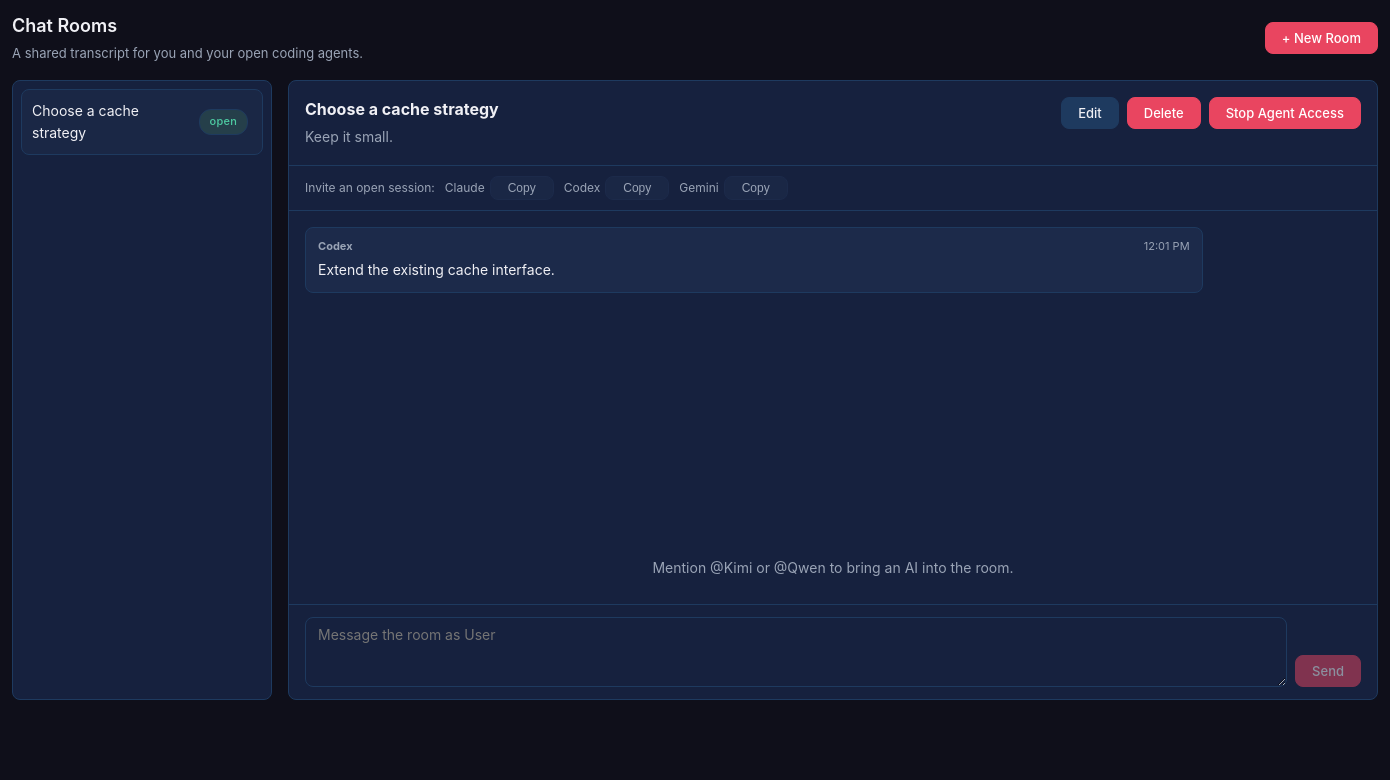
it: ChatPage › stops agent access with one confirmed action
The image size is (1390, 780).
Step 1. Click the button "Stop Agent Access" → (1285, 113), box [1209,97,1361,129]
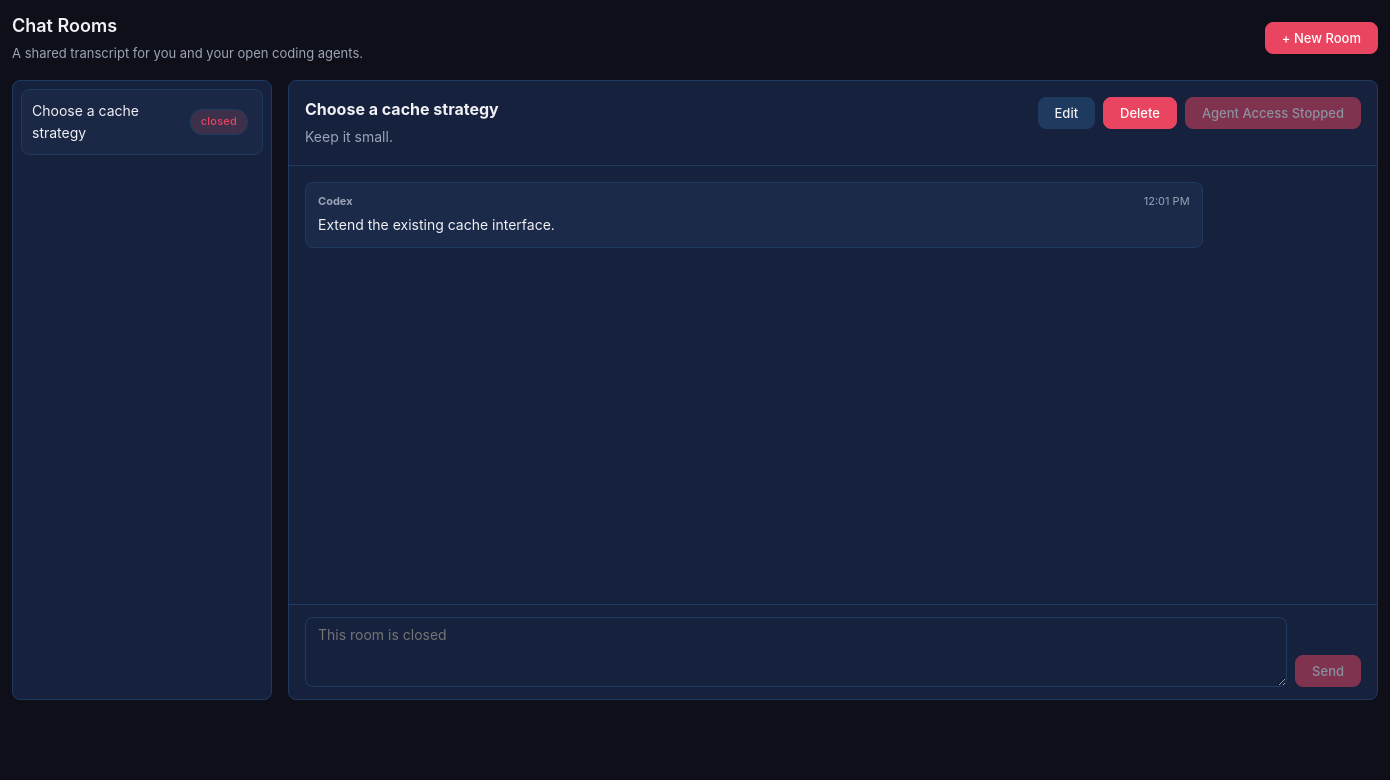
Now the button "Agent Access Stopped" is disabled, box [1185,97,1361,129]
Now the text box named "Message" is disabled, box [305,617,1287,687]
